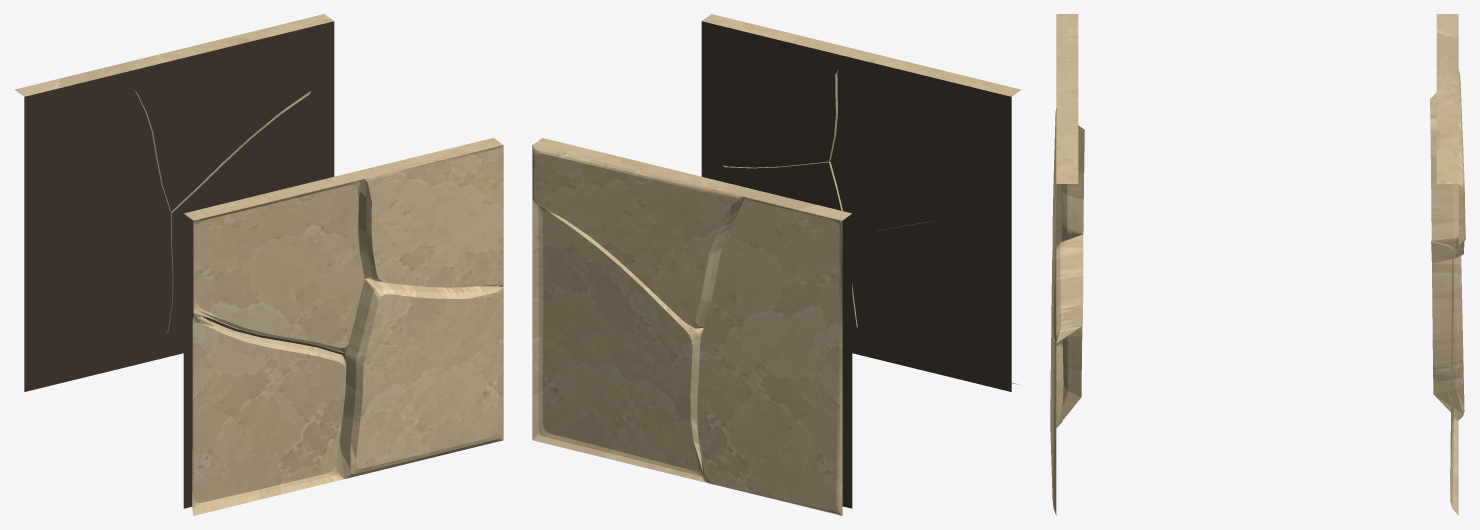
The model's file is ground_strip_10.glb.
3 renders of one model, left to right at view 1: azimuth 30°, elevation 25°; view 2: azimuth 150°, elevation 25°; view 3: azimuth 270°, elevation 25°, orthographic. The views are drawn at different scales.
Visible parts, largest first — view 1: GroundStrip10_Body; view 2: GroundStrip10_Body; view 3: GroundStrip10_Body.
Part boxes in pixels (x1=…): GroundStrip10_Body: x1=15, y1=14, x2=503, y2=515; GroundStrip10_Body: x1=532, y1=14, x2=1020, y2=515; GroundStrip10_Body: x1=1050, y1=14, x2=1465, y2=515.
Bounding box in the file's own units: 1 × 0.91 × 1.03.
9 materials, 8 textured.
